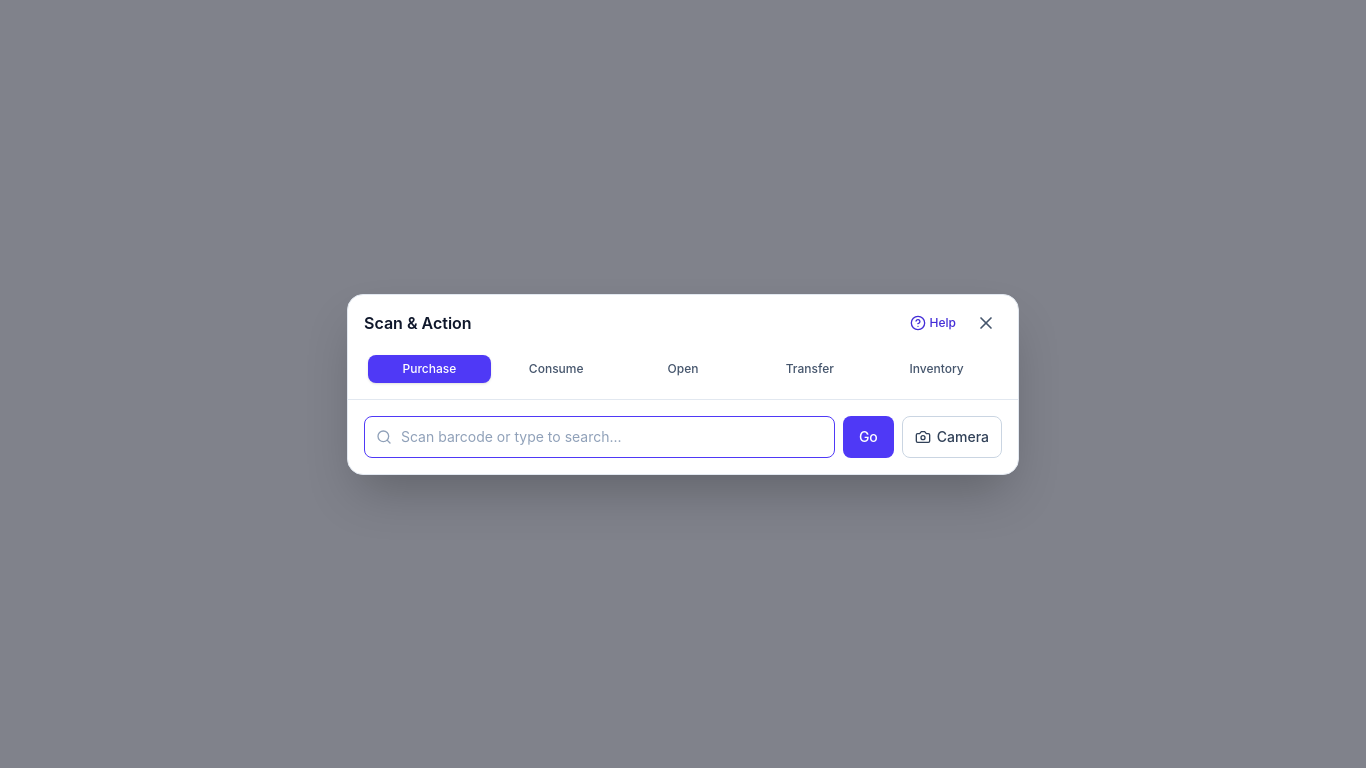
Test: BarcodeScanner and ScannerDrawer › constrains Purchase form grid cells and Due Date input to prevent iOS column overlap
The width and height of the screenshot is (1366, 768).
In the field named "Barcode or search input": point(599, 436) [364, 416, 835, 458], type "7272"
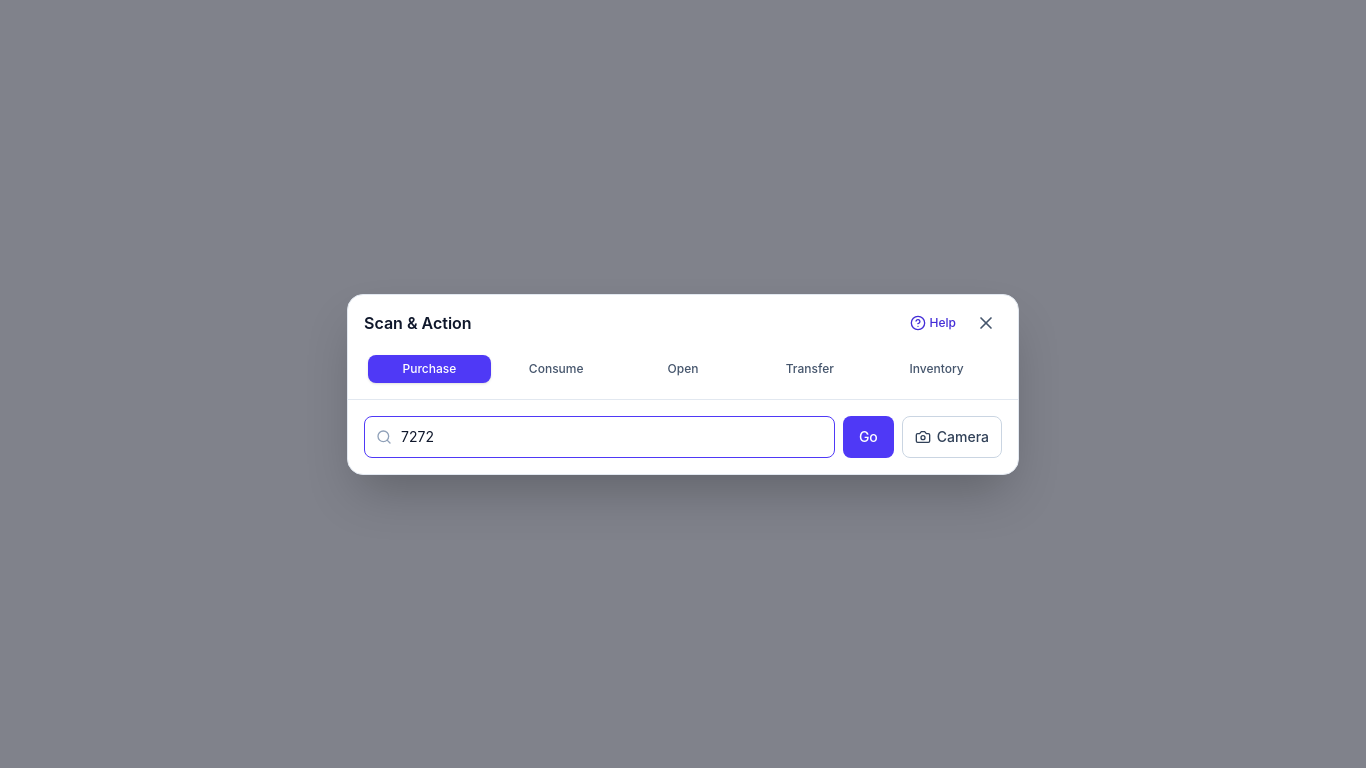
Submit the form named "Barcode or search input", box [364, 416, 1002, 458]
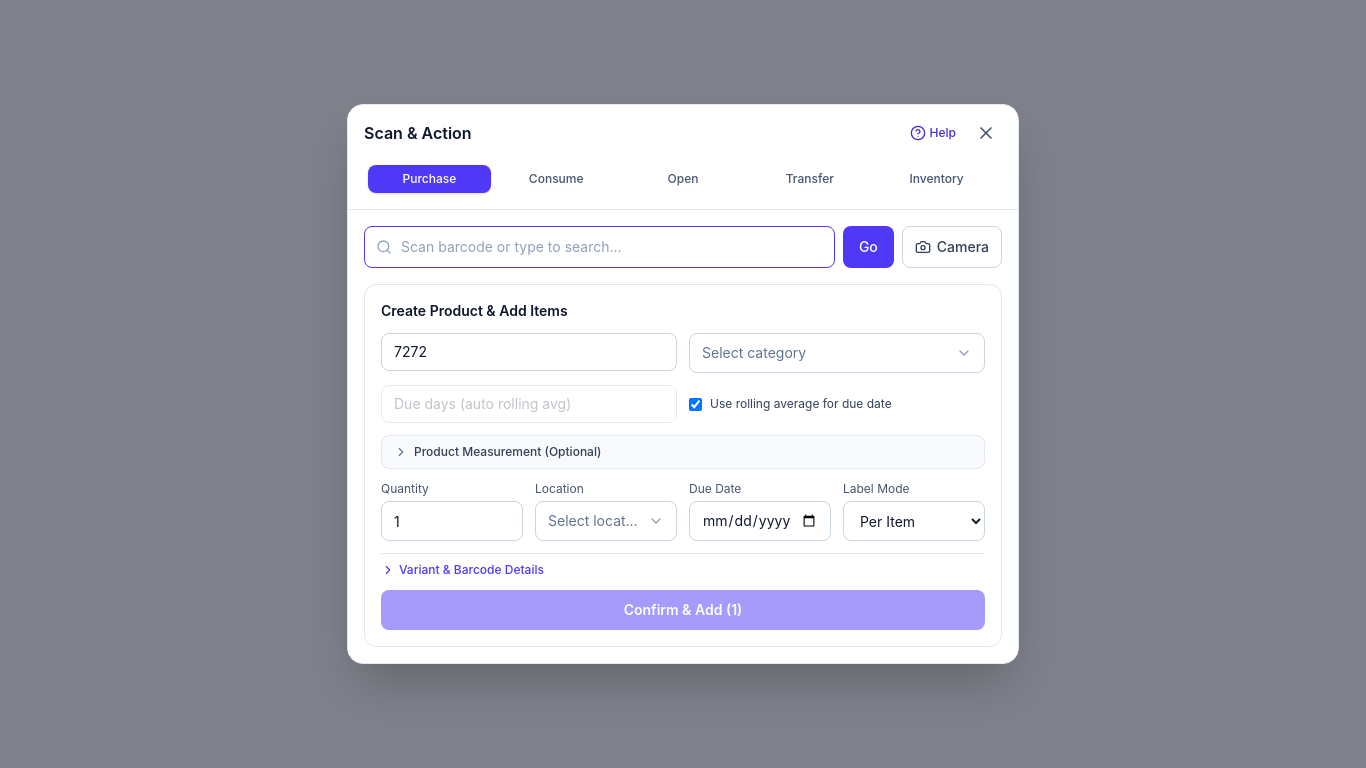
Check: the element labelled "Due Date" is shown, box [381, 481, 985, 541]
